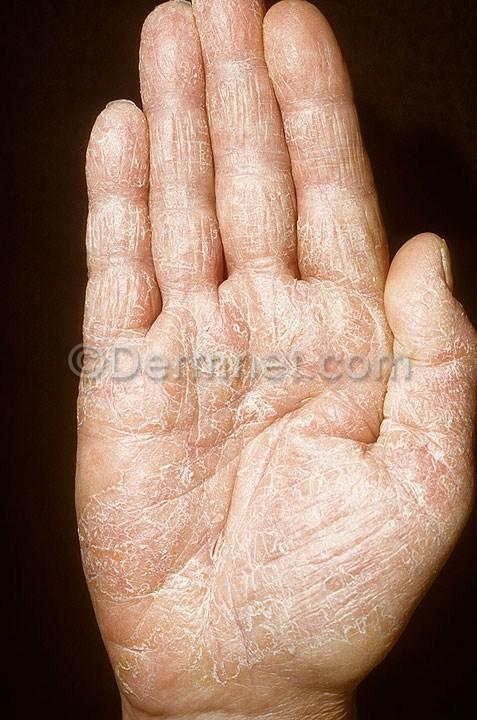Eczema: (141, 357, 446, 664)
